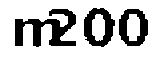0: (118, 7, 152, 52), (82, 6, 115, 50)
2: (46, 6, 78, 50)
m: (9, 17, 62, 52)
